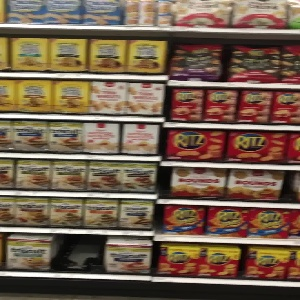void: (53, 233, 104, 277)
